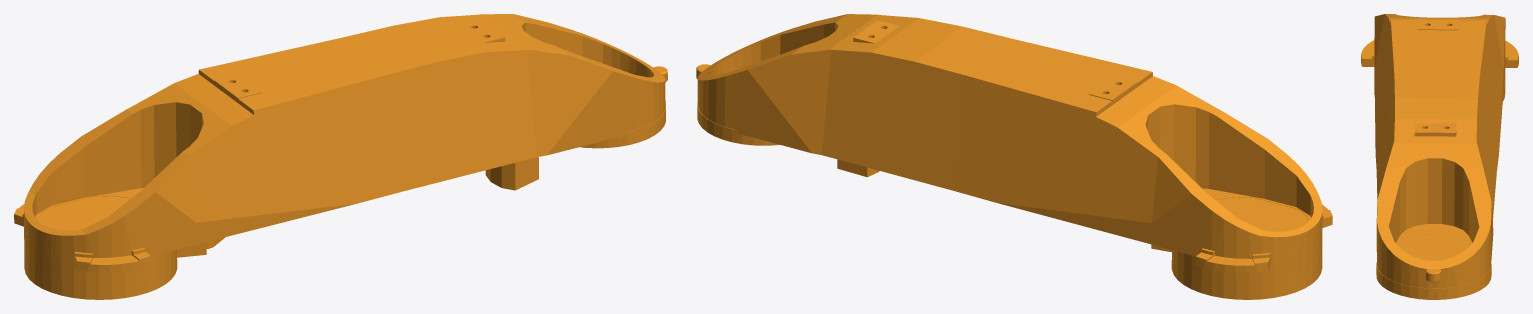
File: KukaK6R900Link2.dae
3 renders of one model, left to right at view 1: azimuth 30°, elevation 25°; view 2: azimuth 150°, elevation 25°; view 3: azimuth 270°, elevation 25°, orthographic. The views are drawn at different scales.
Parts seen in each view (by area): view 1: KUKA_K6Link2; view 2: KUKA_K6Link2; view 3: KUKA_K6Link2.
Boxes of the visible parts, x1,y1,x2,y2 form: KUKA_K6Link2: (14,14,667,299); KUKA_K6Link2: (696,14,1332,299); KUKA_K6Link2: (1361,14,1518,299).
Size of the model in its own units: 0.4318 by 0.1097 by 0.099.
